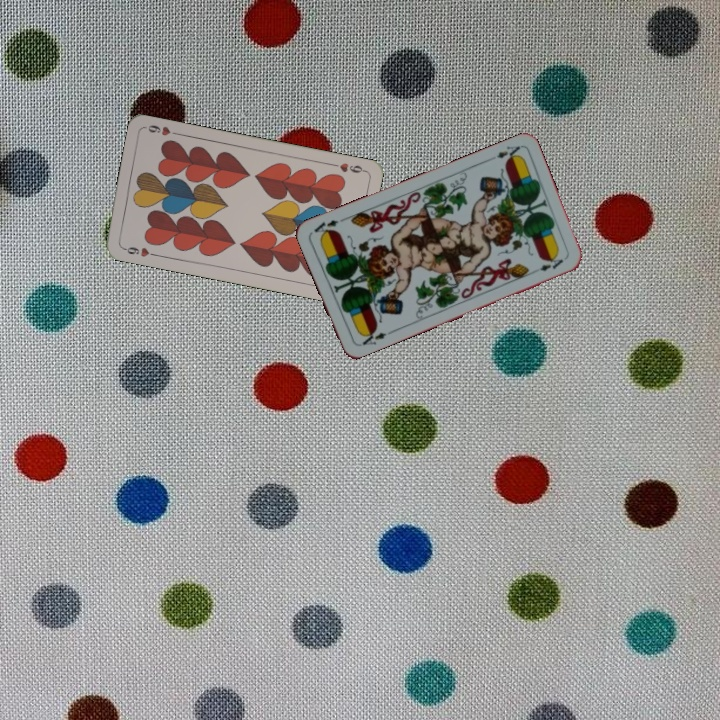EA: (355, 325, 394, 348), (493, 142, 523, 164)
H9: (327, 159, 368, 176), (118, 243, 159, 260)
